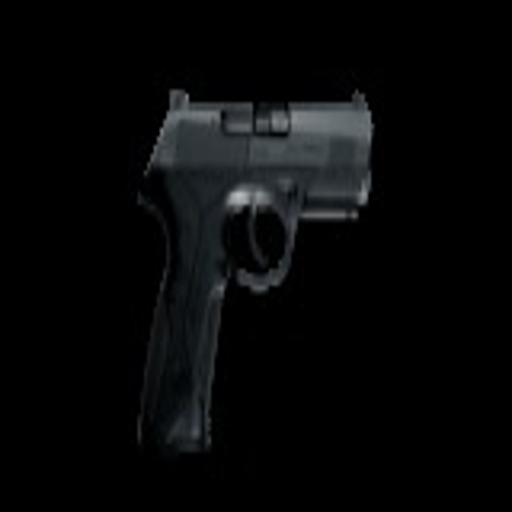Handgun: (120, 84, 379, 459)
